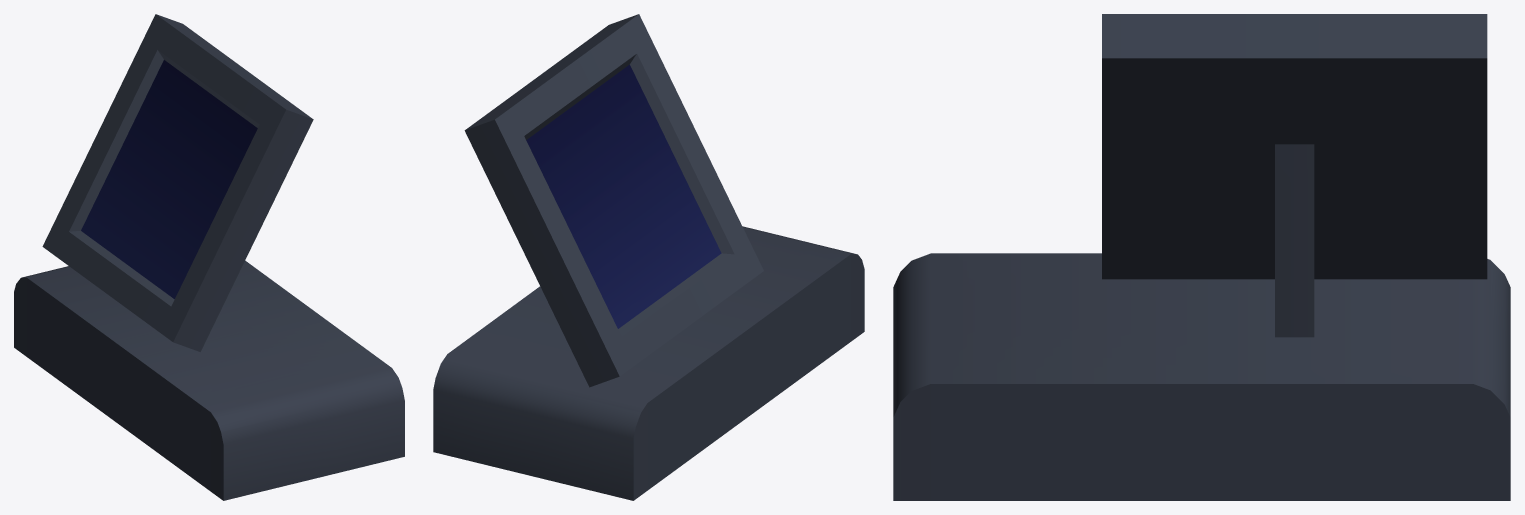
The model's file is Computer.fbx.
The picture shows the model from 3 angles, left to right: view 1: azimuth 30°, elevation 25°; view 2: azimuth 150°, elevation 25°; view 3: azimuth 270°, elevation 25°; orthographic projection. The views are drawn at different scales.
Parts seen in each view (by area): view 1: Computer; view 2: Computer; view 3: Computer.
Boxes of the visible parts, box(x1,y1,x2,y2) form: Computer: box(14, 14, 404, 500); Computer: box(433, 14, 864, 500); Computer: box(893, 14, 1510, 500).
Bounding box in the file's own units: 9.6 × 16.97 × 19.2.
